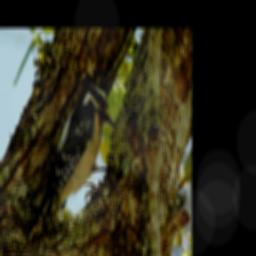Woodpecker: (25, 77, 117, 239)
